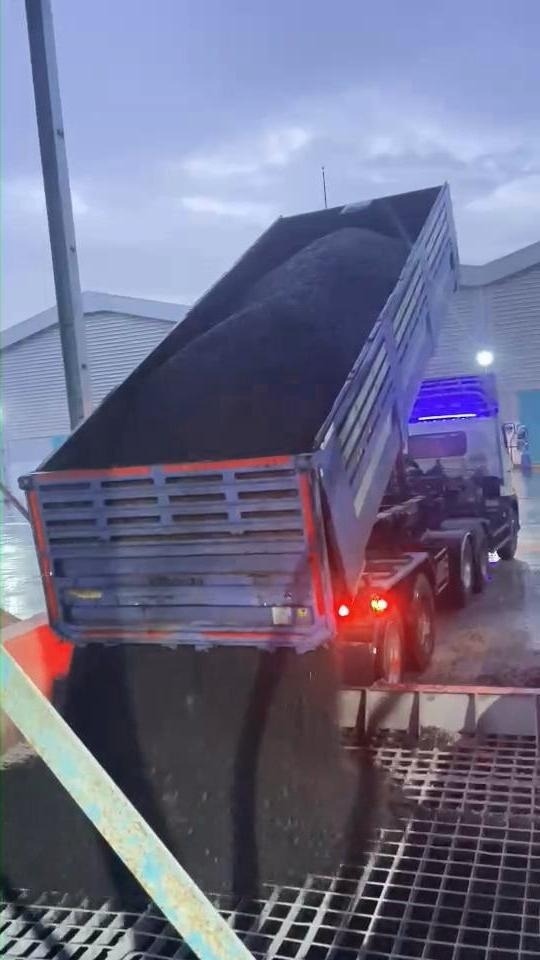gravel: (64, 646, 376, 895), (112, 229, 407, 465), (1, 754, 143, 908)
